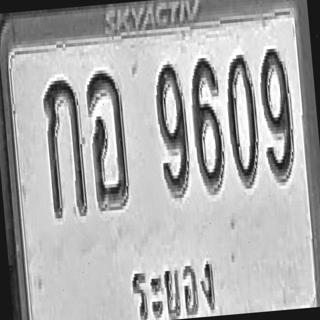A01: (41, 75, 88, 218)
A43: (84, 69, 131, 208)
N00: (222, 50, 261, 186)
N06: (188, 55, 226, 191)
N09: (257, 44, 296, 180), (153, 60, 191, 196)
P53: (126, 244, 226, 320)
